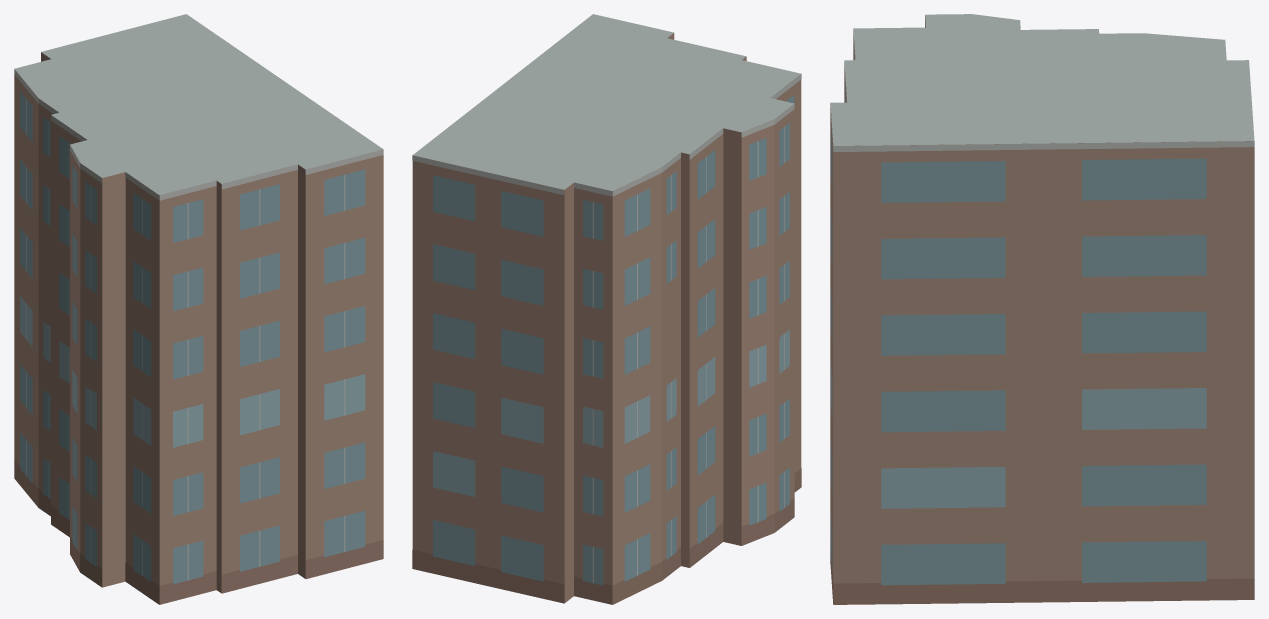
File: survey-upis-32669310.glb
3 views of the same model, side by side, from view 1: azimuth 30°, elevation 25°; view 2: azimuth 150°, elevation 25°; view 3: azimuth 270°, elevation 25° (orthographic). The views are drawn at different scales.
Visible parts, largest first — view 1: survey-upis-32669310.tmp; view 2: survey-upis-32669310.tmp; view 3: survey-upis-32669310.tmp.
Boxes of the visible parts, x1,y1,x2,y2 form: survey-upis-32669310.tmp: [14, 14, 383, 604]; survey-upis-32669310.tmp: [412, 14, 801, 604]; survey-upis-32669310.tmp: [830, 14, 1254, 604].
Size of the model in its own units: 11.37 by 18.4 by 15.42.
